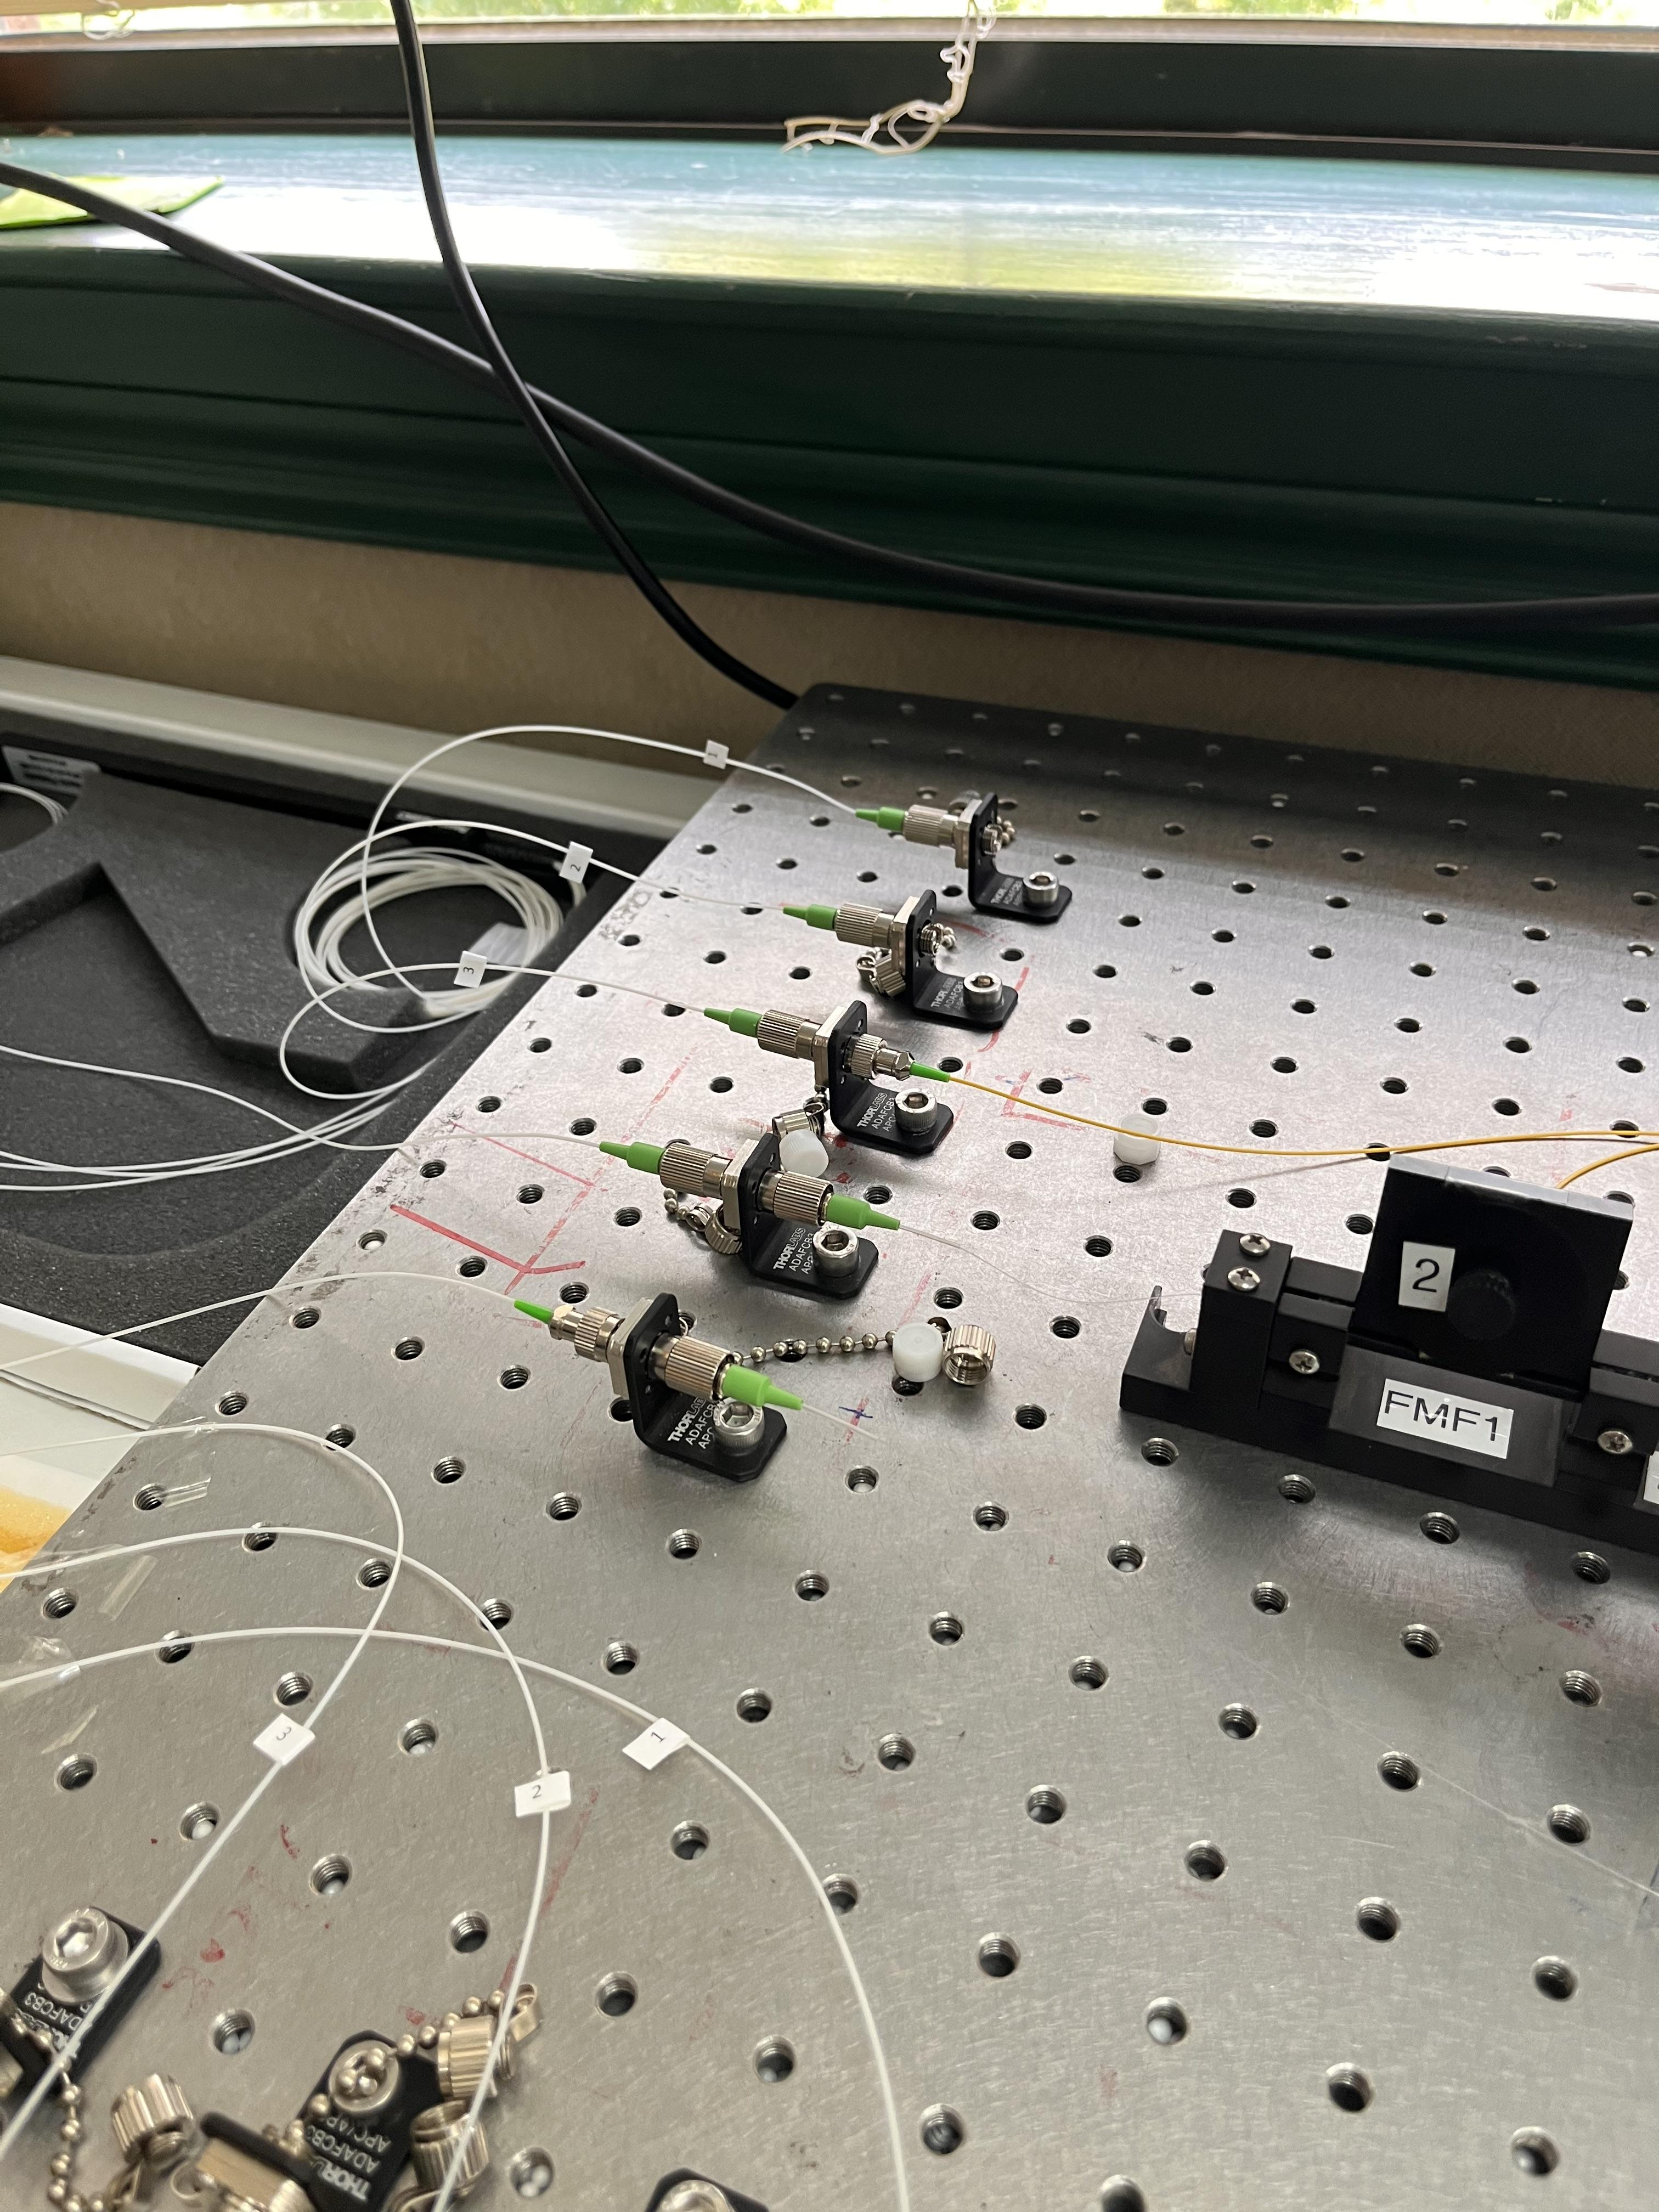paddle_polarization_controller: (1101, 1145, 1658, 1566)
